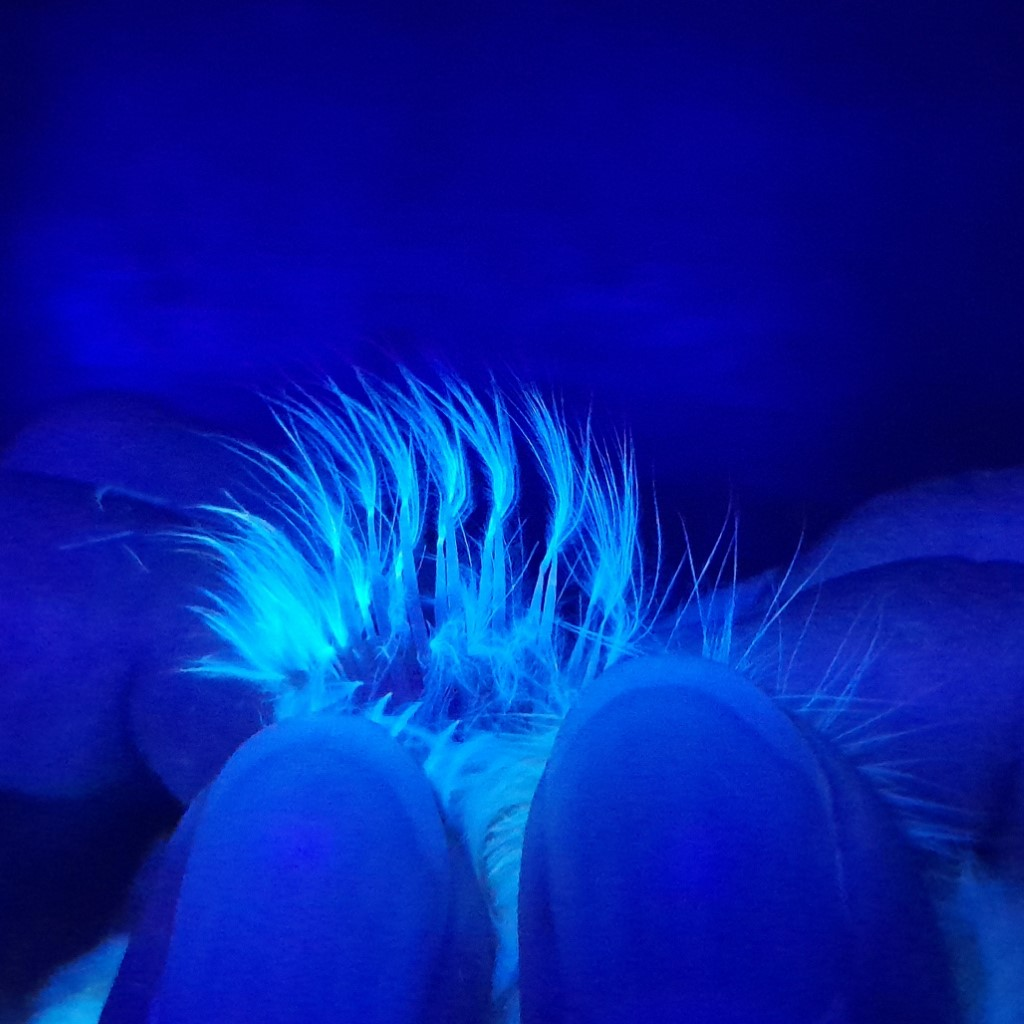male: (315, 482, 589, 737)
